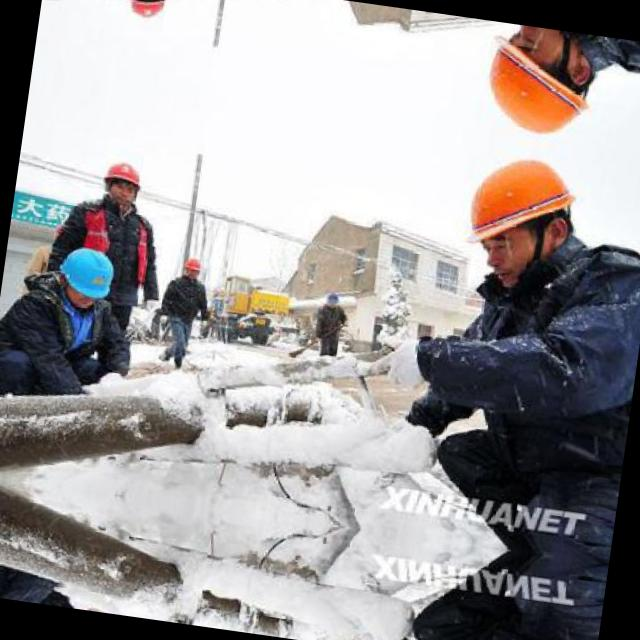helmet: (448, 136, 592, 292), (467, 20, 610, 154), (54, 239, 120, 307), (98, 154, 146, 210), (123, 0, 174, 25), (180, 253, 204, 282)
